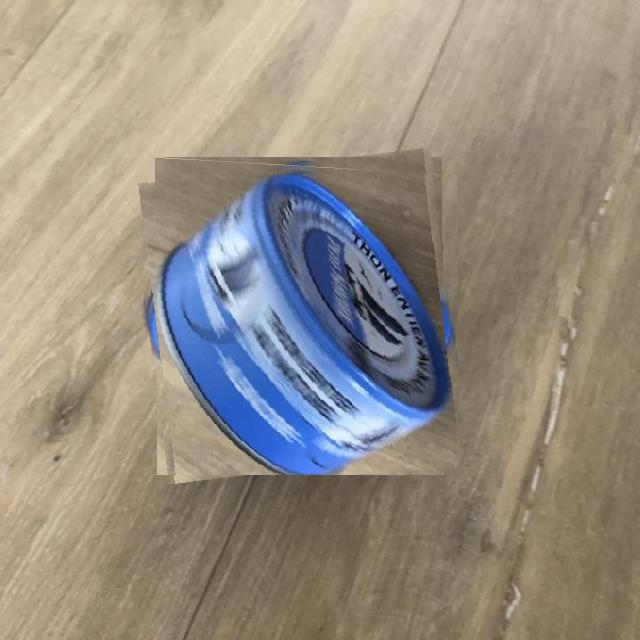recyclable: (139, 156, 458, 475)
